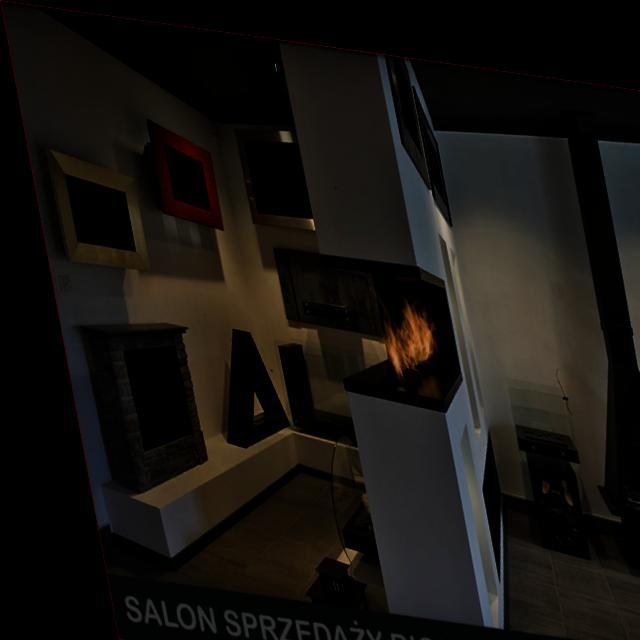Fire: (339, 282, 443, 369)
